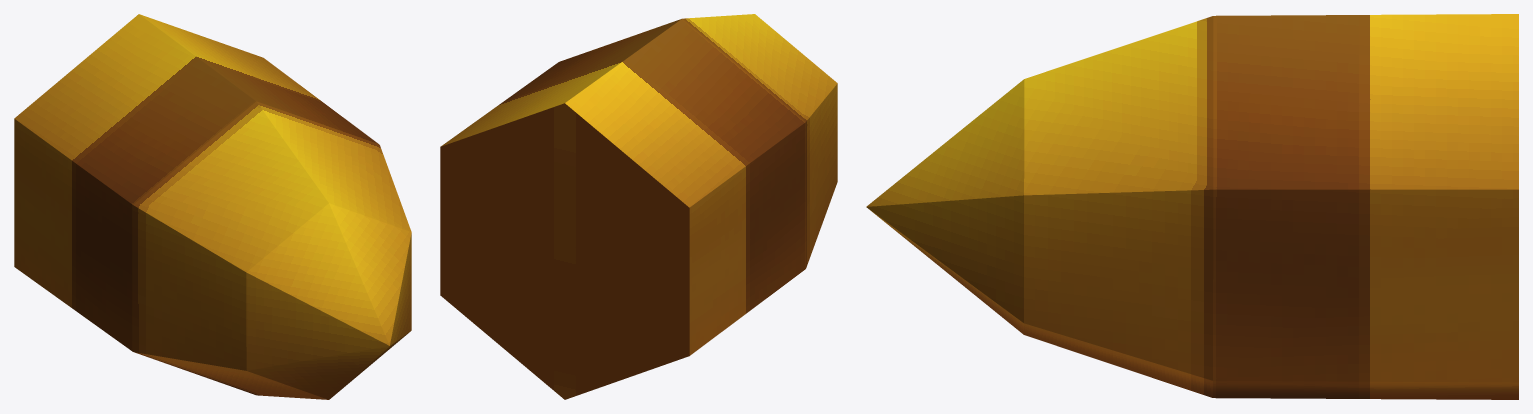
File: paodan_1.FBX
The picture shows the model from 3 angles, left to right: view 1: azimuth 30°, elevation 25°; view 2: azimuth 150°, elevation 25°; view 3: azimuth 270°, elevation 25°; orthographic projection. The views are drawn at different scales.
Visible parts, largest first — view 1: paodan_1; view 2: paodan_1; view 3: paodan_1.
Part boxes in pixels (box(x1,y1,x2,y2)): paodan_1: box(14, 14, 411, 399); paodan_1: box(440, 14, 837, 399); paodan_1: box(866, 14, 1518, 399).
Bounding box in the file's own units: 0.241 × 0.2741 × 0.4202.
